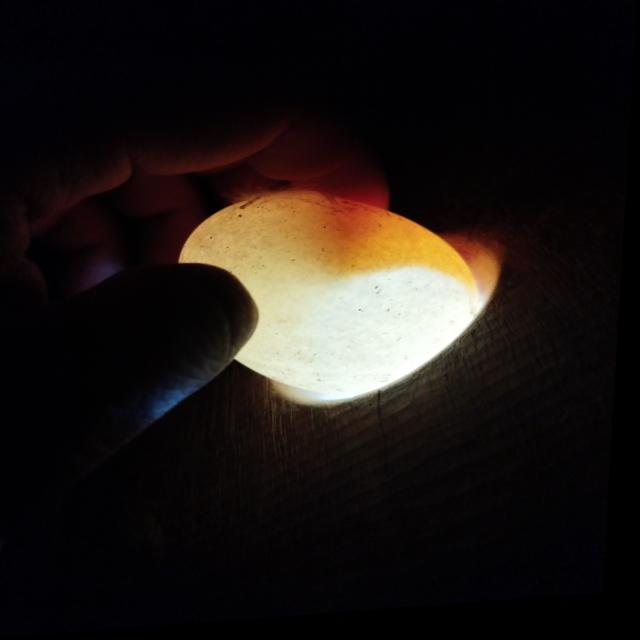Camara de Ar: (311, 275, 476, 388)
